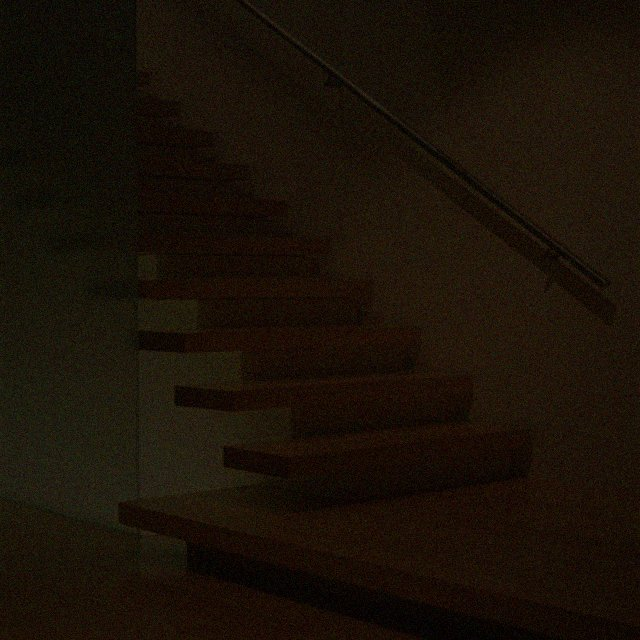stair: (119, 71, 639, 639)
